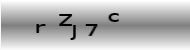7: (85, 23, 98, 37)
J: (69, 25, 77, 40)
Z: (56, 12, 73, 26)
c: (108, 11, 120, 23)
r: (34, 22, 46, 33)
